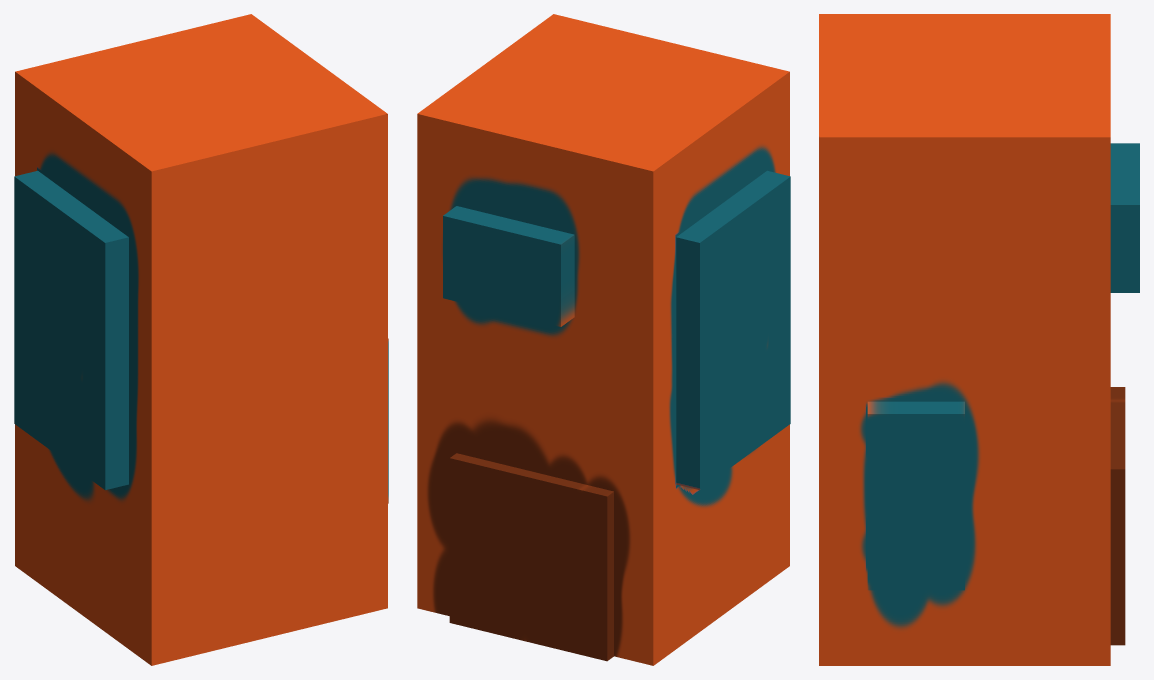
File: building5.glb
3 views of the same model, side by side, from view 1: azimuth 30°, elevation 25°; view 2: azimuth 150°, elevation 25°; view 3: azimuth 270°, elevation 25° (orthographic). The views are drawn at different scales.
Parts seen in each view (by area): view 1: Cube; view 2: Cube; view 3: Cube.
Boxes of the visible parts, bbox=[...] form: Cube: bbox=[14, 14, 388, 665]; Cube: bbox=[417, 14, 790, 665]; Cube: bbox=[819, 14, 1139, 665].
Bounding box in the file's own units: 36 × 60 × 33.
1 material, 1 textured.
